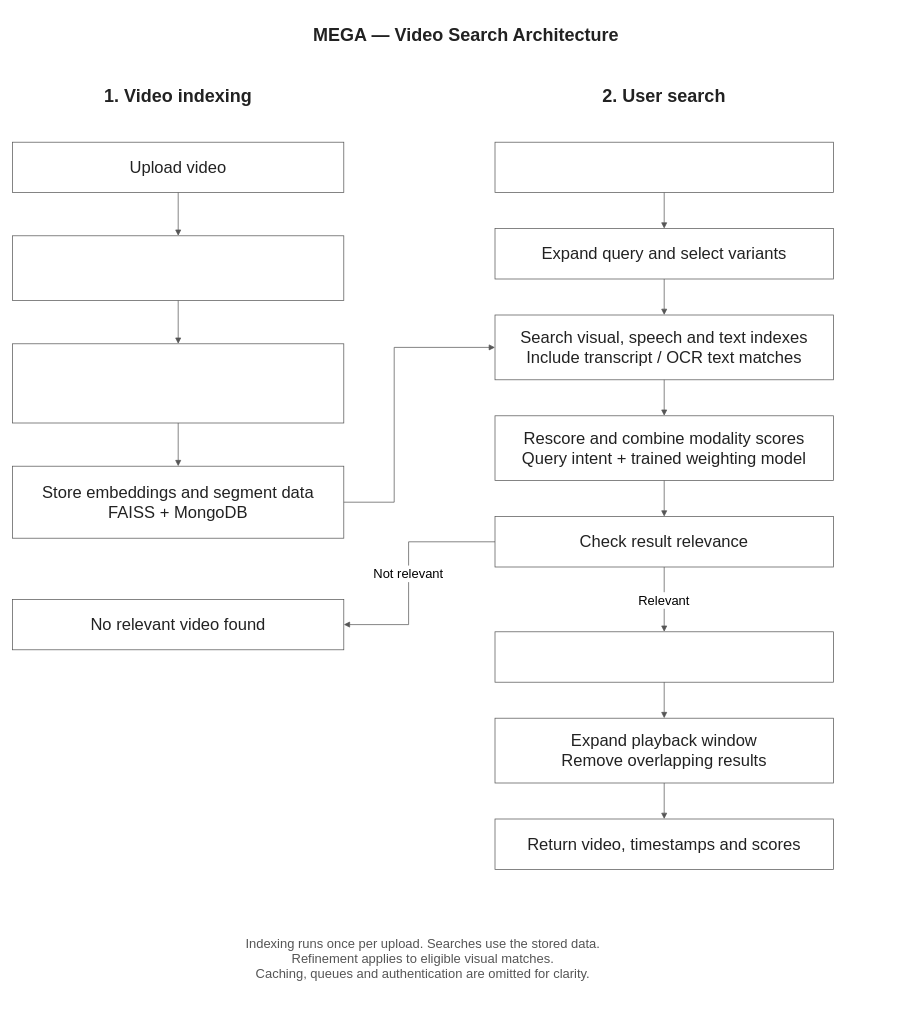
Some shapes in this 911 by 1025 pixel diagram are drawn without their labels. The centre of each missing label's shape, as x and y in pixels:
Extract visual, speech and text features OpenCLIP · Whisper · PaddleOCR: point 178,383
Refine timestamps when applicable: point 663,656
Split video into chunks 7 seconds, with 3-second overlap: point 178,268
User query: point 663,167
